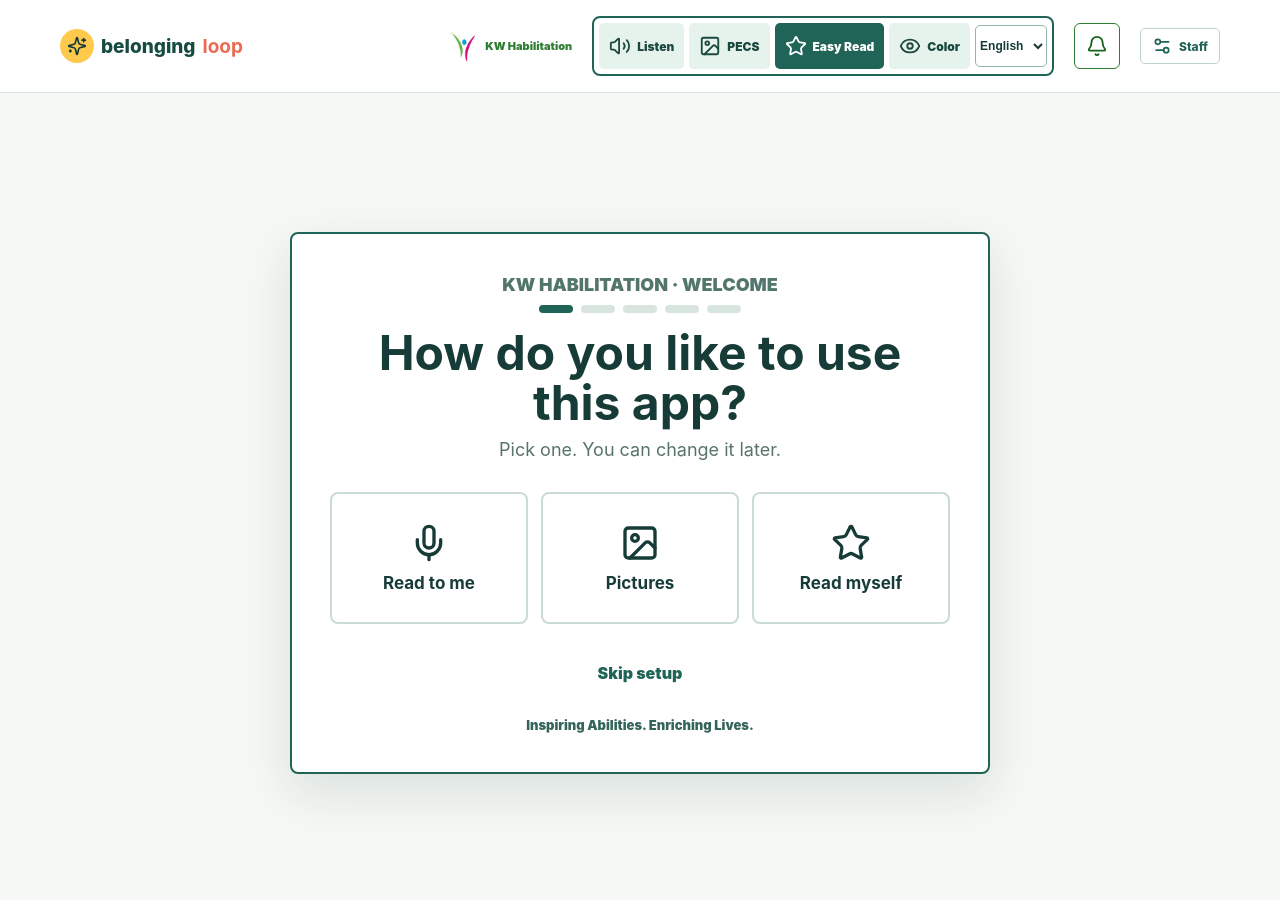
Belonging Loop accessible calendar › starts with one visual onboarding decision
Check: the heading "How do you like to use this app?" is shown, box [379,323,901,432]
Click the button "Pictures" at (640, 558), box [541,492,739,624]
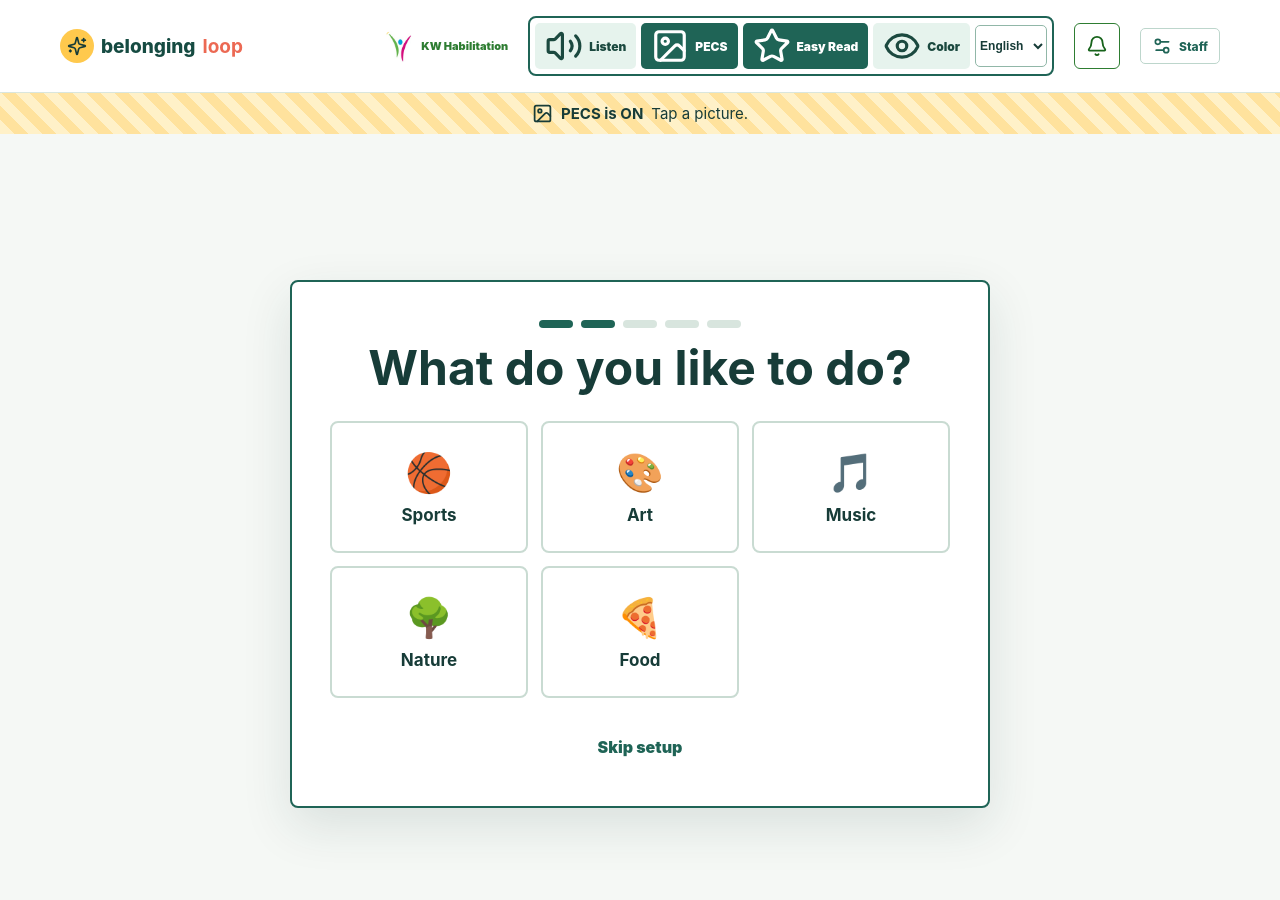
Check: the heading "What do you like to do?" is shown, box [330,343,950,393]
